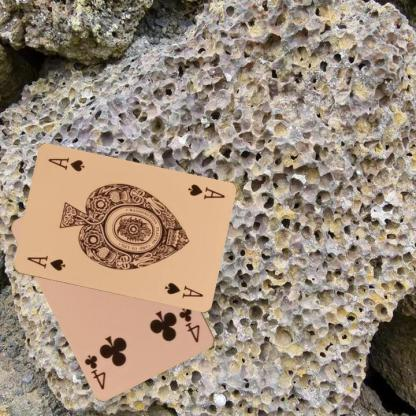4c: (176, 305, 202, 344)
As: (184, 181, 226, 201), (24, 254, 66, 272)
